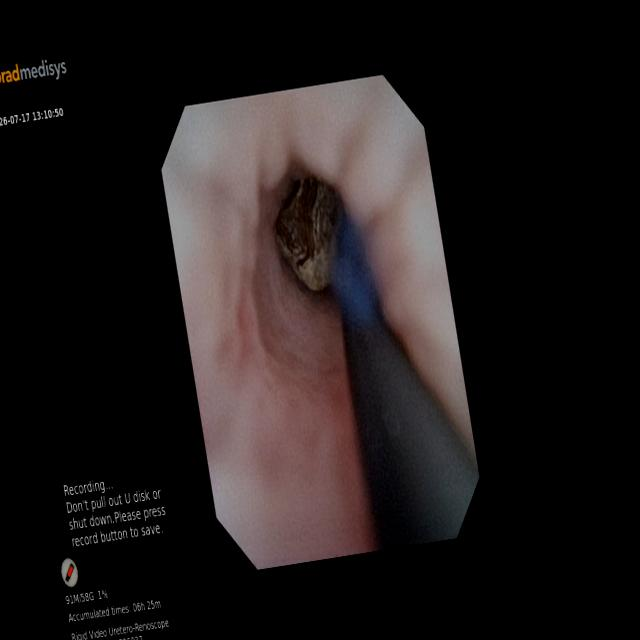stone-new: (276, 177, 341, 290)
